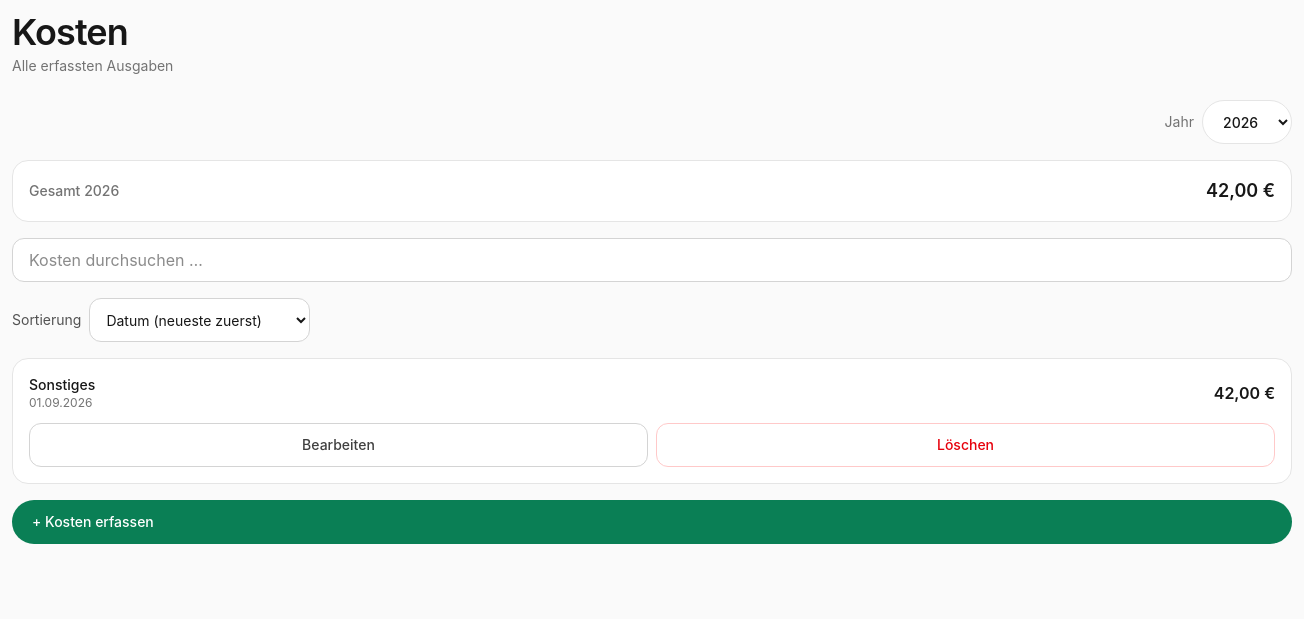
Test: CostsPage › keeps detail navigation working for an entry in the filtered list
Click the button "Bearbeiten": (338, 445) [29,423,648,467]
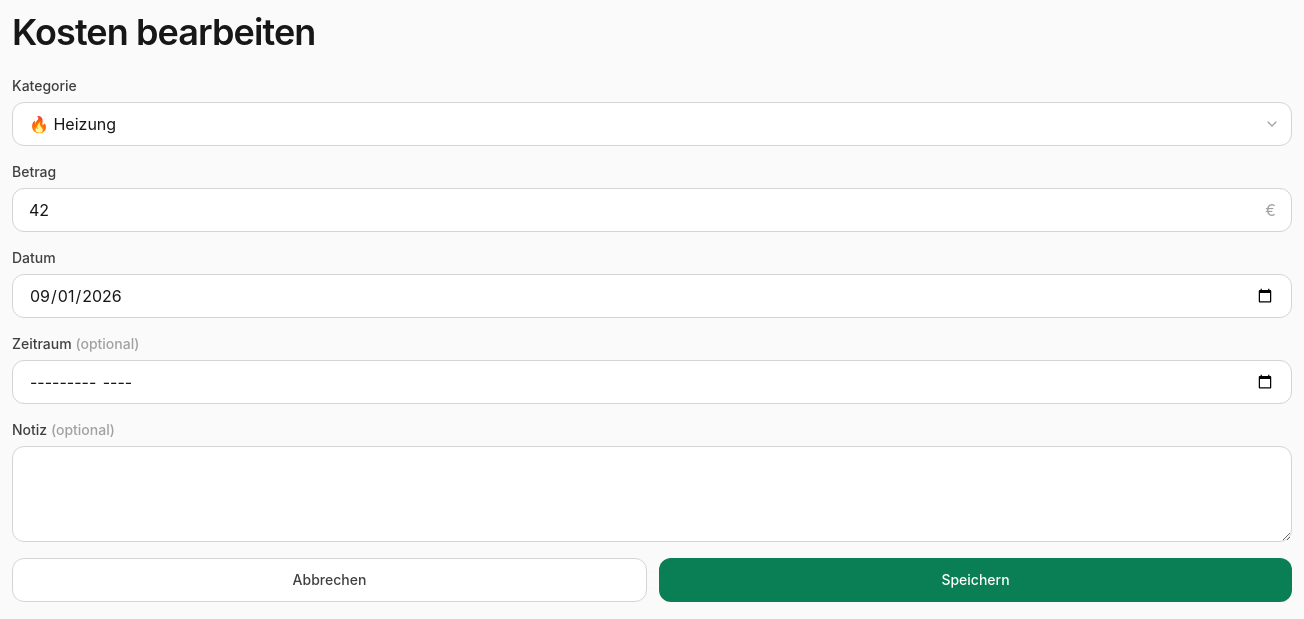
Check: the field labelled "Betrag" holds "42", box [12,188,1292,232]
